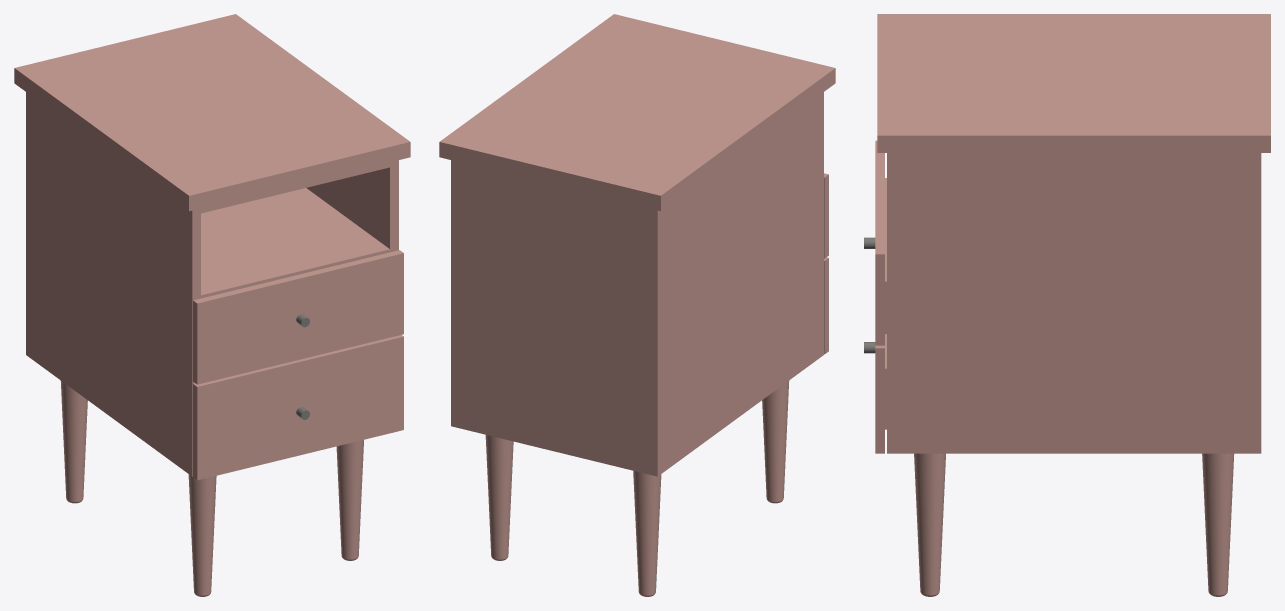
The model's file is 479_サイドテーブル.glb.
The picture shows the model from 3 angles, left to right: view 1: azimuth 30°, elevation 25°; view 2: azimuth 150°, elevation 25°; view 3: azimuth 270°, elevation 25°; orthographic projection. The views are drawn at different scales.
Parts seen in each view (by area): view 1: Body, hikidashi_shita, hikidashi_ue; view 2: Body; view 3: Body, hikidashi_ue, hikidashi_shita.
Part boxes in pixels (x1=…): Body: x1=14, y1=14, x2=410, y2=596; hikidashi_shita: x1=193, y1=335, x2=403, y2=480; hikidashi_ue: x1=193, y1=250, x2=403, y2=384; Body: x1=439, y1=14, x2=835, y2=596; Body: x1=877, y1=14, x2=1270, y2=596; hikidashi_ue: x1=864, y1=140, x2=886, y2=345; hikidashi_shita: x1=864, y1=334, x2=886, y2=453.
Size of the model in its own units: 0.3 by 0.55 by 0.4238.
